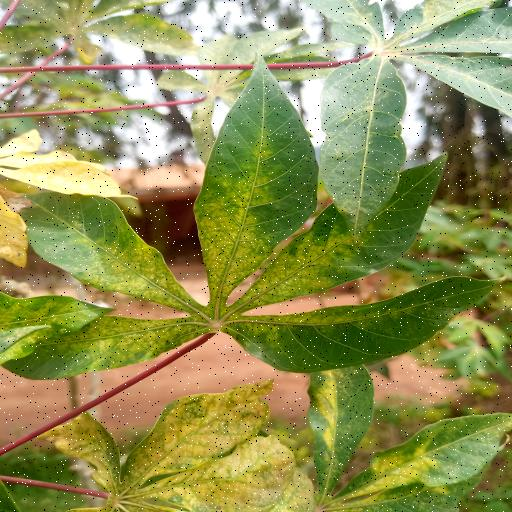Cassava_Mosaic: (6, 58, 498, 379)
